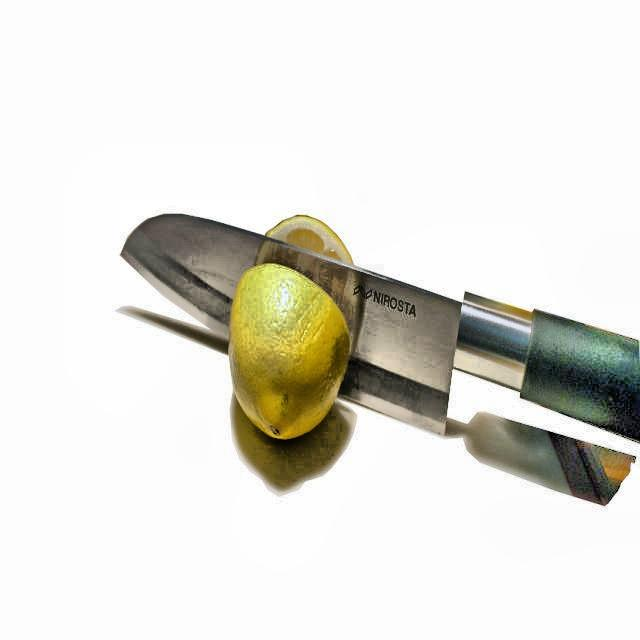knife: (120, 209, 640, 466)
